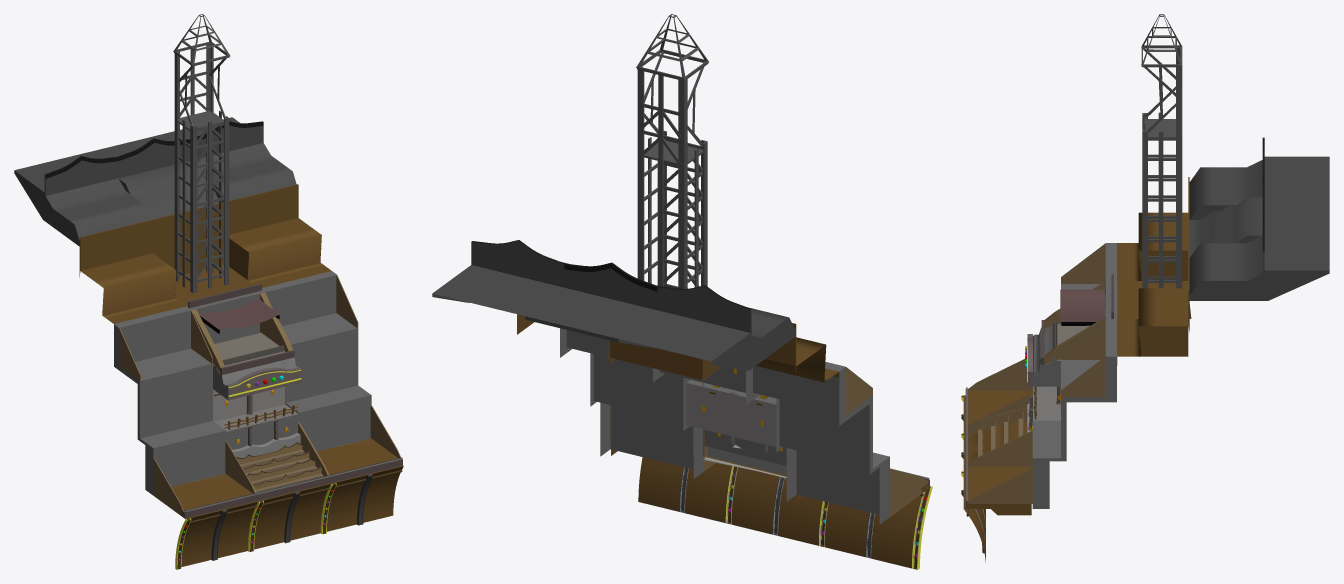
Rendered from CellArenaPieceNorm.fbx.
The picture shows the model from 3 angles, left to right: view 1: azimuth 30°, elevation 25°; view 2: azimuth 150°, elevation 25°; view 3: azimuth 270°, elevation 25°; orthographic projection. The views are drawn at different scales.
Visible parts, largest first — view 1: CellArenaPieceNorm; view 2: CellArenaPieceNorm; view 3: CellArenaPieceNorm.
Boxes of the visible parts, box(x1,y1,x2,y2) form: CellArenaPieceNorm: box(14, 14, 403, 569); CellArenaPieceNorm: box(432, 14, 932, 569); CellArenaPieceNorm: box(961, 14, 1329, 562).
Size of the model in its own units: 48 by 98.15 by 65.8.
